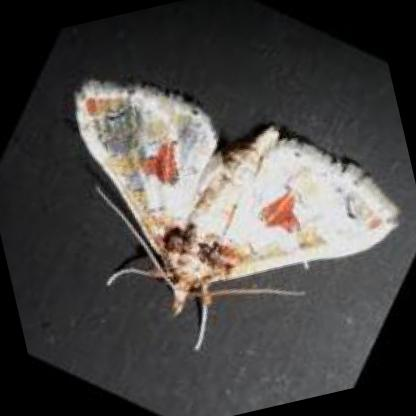leucinodes: (76, 79, 399, 316)
